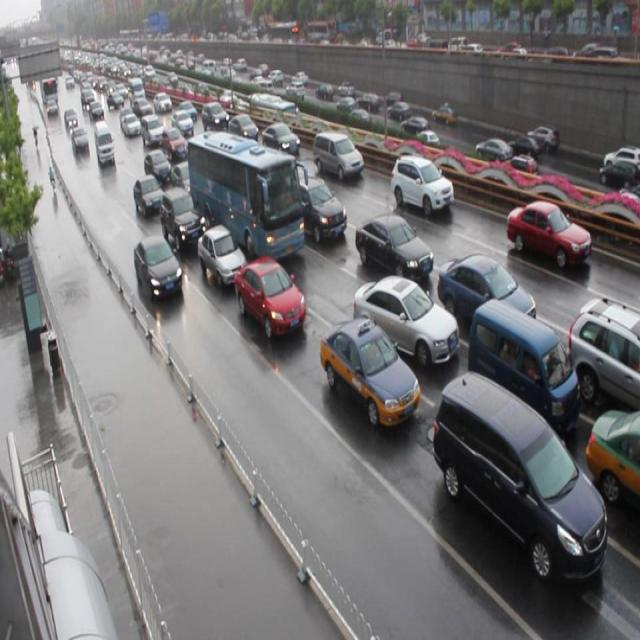car: (320, 318, 420, 428), (352, 276, 459, 368), (566, 297, 640, 408), (437, 253, 535, 335), (505, 196, 590, 269), (584, 408, 640, 515), (233, 255, 305, 335), (354, 214, 433, 280), (389, 154, 454, 215), (294, 176, 346, 242), (134, 234, 183, 302), (196, 224, 247, 284), (160, 186, 206, 250), (261, 122, 301, 160), (134, 174, 164, 216), (170, 161, 197, 197), (144, 149, 172, 183), (226, 113, 258, 142)
truck: (434, 370, 606, 582), (466, 297, 577, 432), (312, 130, 364, 180)
van: (190, 130, 304, 263)
